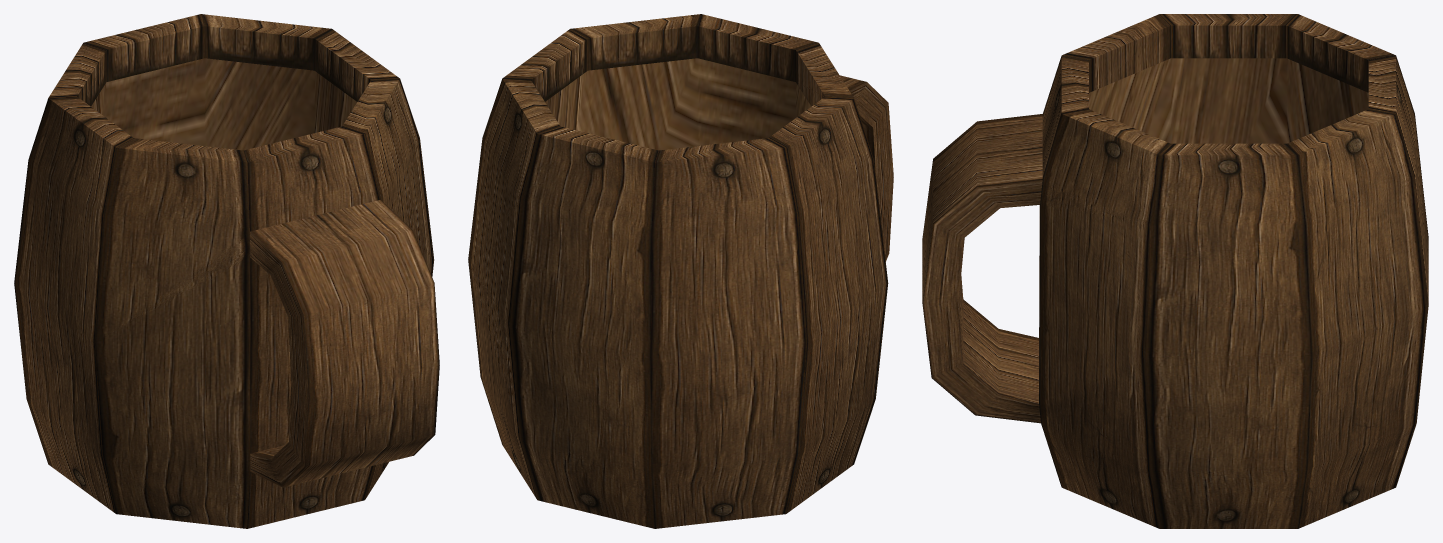
Rendered from Wood_Cup.fbx.
The picture shows the model from 3 angles, left to right: view 1: azimuth 30°, elevation 25°; view 2: azimuth 150°, elevation 25°; view 3: azimuth 270°, elevation 25°; orthographic projection. The views are drawn at different scales.
Parts seen in each view (by area): view 1: Wood_Cup; view 2: Wood_Cup; view 3: Wood_Cup.
Boxes of the visible parts, x1,y1,x2,y2 form: Wood_Cup: [14, 14, 439, 528]; Wood_Cup: [468, 14, 893, 528]; Wood_Cup: [922, 14, 1428, 528].
Bounding box in the file's own units: 27.65 × 28.55 × 35.04.
